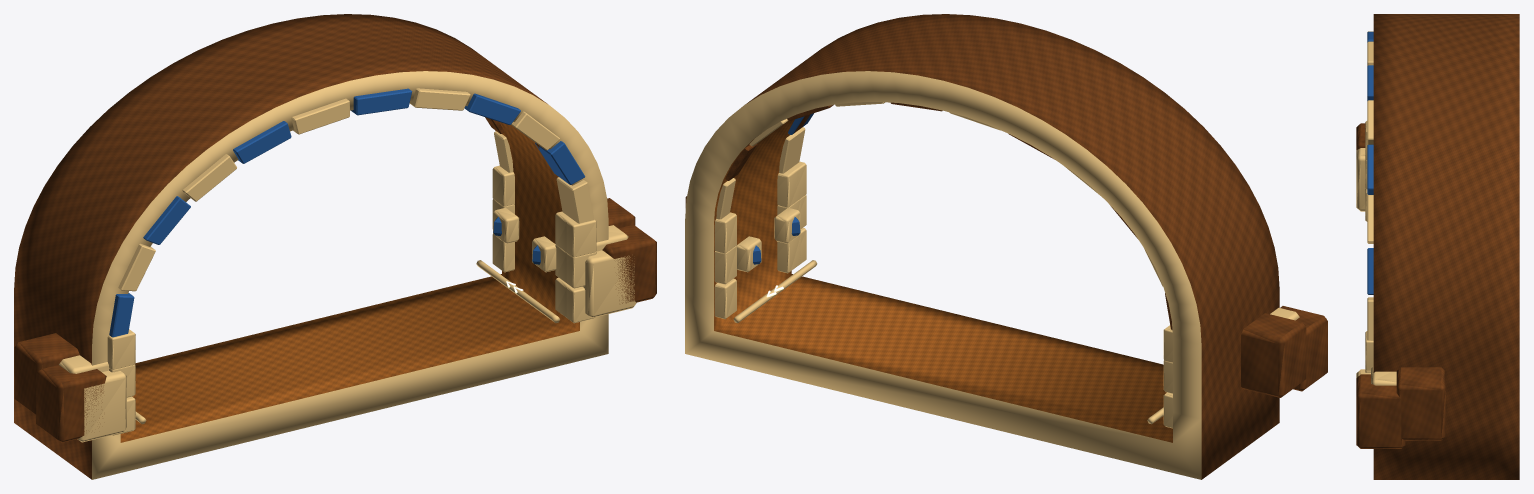
File: portal_entry_lod1.glb
3 views of the same model, side by side, from view 1: azimuth 30°, elevation 25°; view 2: azimuth 150°, elevation 25°; view 3: azimuth 270°, elevation 25° (orthographic). The views are drawn at different scales.
Visible parts, largest first — view 1: TunnelGeometry.001; view 2: TunnelGeometry.001; view 3: TunnelGeometry.001.
Part boxes in pixels (box(x1,y1,x2,y2)): TunnelGeometry.001: box(14, 14, 656, 479); TunnelGeometry.001: box(685, 14, 1327, 479); TunnelGeometry.001: box(1356, 14, 1519, 479).
Size of the model in its own units: 17.75 by 9.52 by 4.47.
5 materials, 2 textured.
